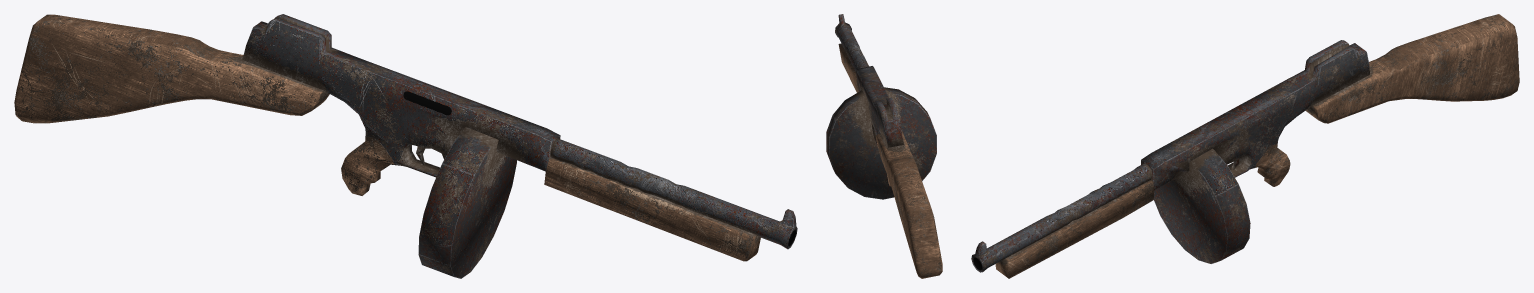
File: Anim_disparar_ametralladora_objetos.0022.obj
The picture shows the model from 3 angles, left to right: view 1: azimuth 30°, elevation 25°; view 2: azimuth 150°, elevation 25°; view 3: azimuth 270°, elevation 25°; orthographic projection. The views are drawn at different scales.
Parts seen in each view (by area): view 1: Ametralladora1; view 2: Ametralladora1; view 3: Ametralladora1.
Part boxes in pixels (bbox=[...]): Ametralladora1: bbox=[14, 14, 797, 278]; Ametralladora1: bbox=[826, 14, 942, 278]; Ametralladora1: bbox=[971, 14, 1519, 278].
Bounding box in the file's own units: 3.96 × 1.74 × 4.9.
1 material, 1 textured.
